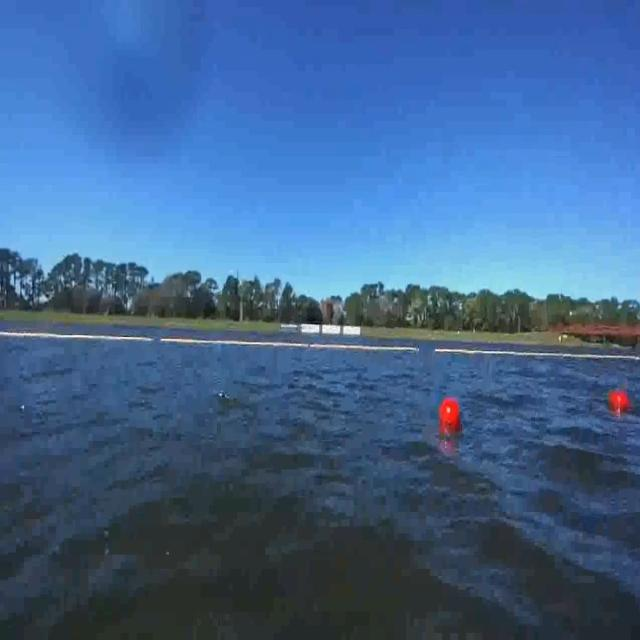red-buoy: (438, 399, 458, 432), (610, 392, 631, 416)
